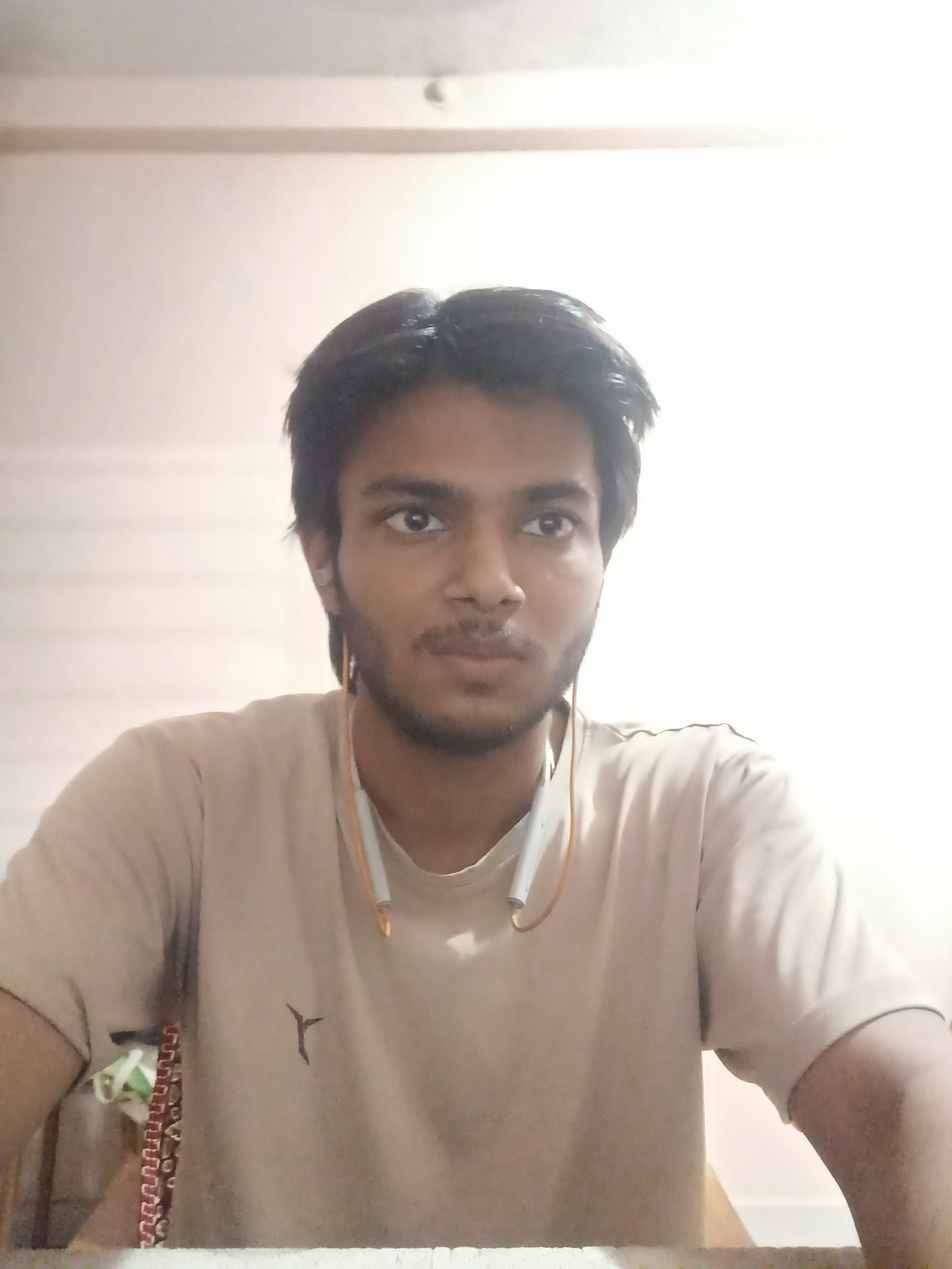Focused: (292, 302, 704, 895)
